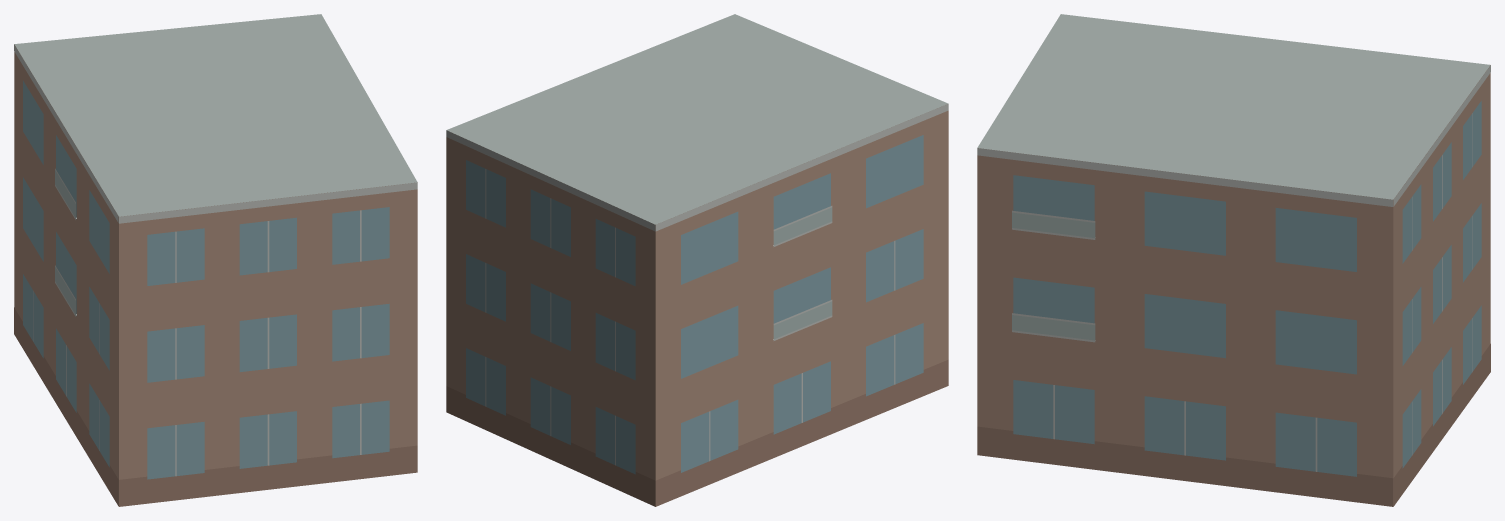
File: survey-upis-33006064.glb
The picture shows the model from 3 angles, left to right: view 1: azimuth 30°, elevation 25°; view 2: azimuth 150°, elevation 25°; view 3: azimuth 270°, elevation 25°; orthographic projection. The views are drawn at different scales.
Parts seen in each view (by area): view 1: survey-upis-33006064.tmp; view 2: survey-upis-33006064.tmp; view 3: survey-upis-33006064.tmp.
Boxes of the visible parts, x1,y1,x2,y2 form: survey-upis-33006064.tmp: (14,14,417,506); survey-upis-33006064.tmp: (446,14,948,506); survey-upis-33006064.tmp: (977,14,1490,506).
Size of the model in its own units: 13.11 by 10.1 by 15.32.
